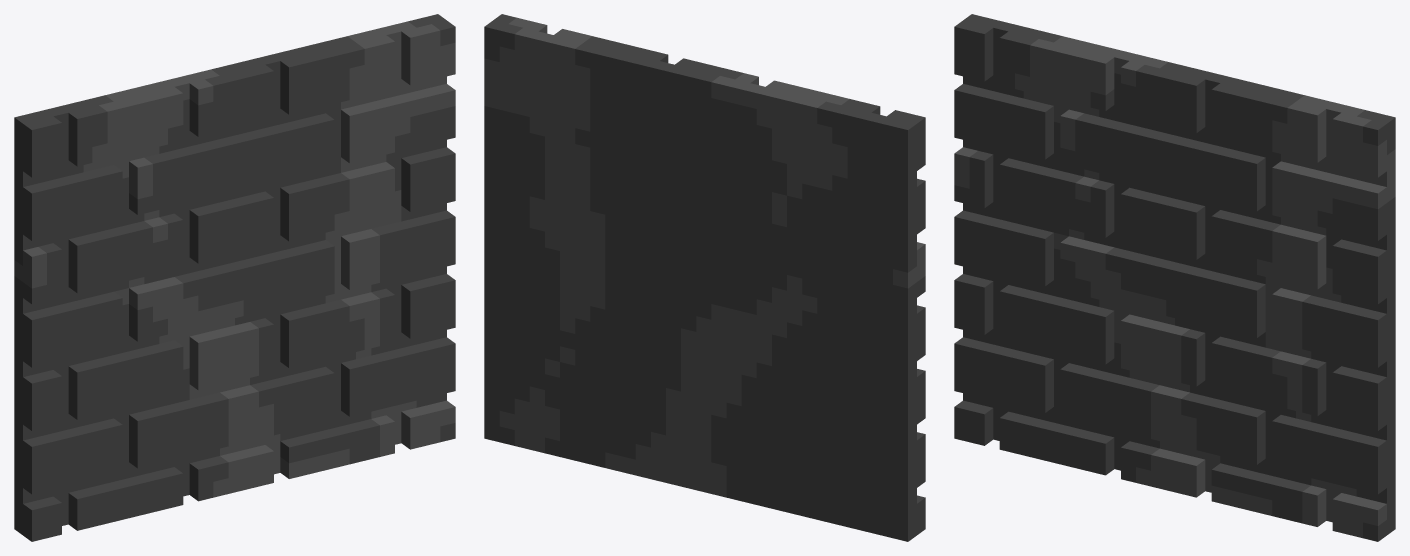
The model's file is Stenka1-35 2.obj.
3 renders of one model, left to right at view 1: azimuth 30°, elevation 25°; view 2: azimuth 150°, elevation 25°; view 3: azimuth 330°, elevation 25°, orthographic.
Size of the model in its own units: 2.8 by 2.6 by 0.2.
1 material, 1 textured.
